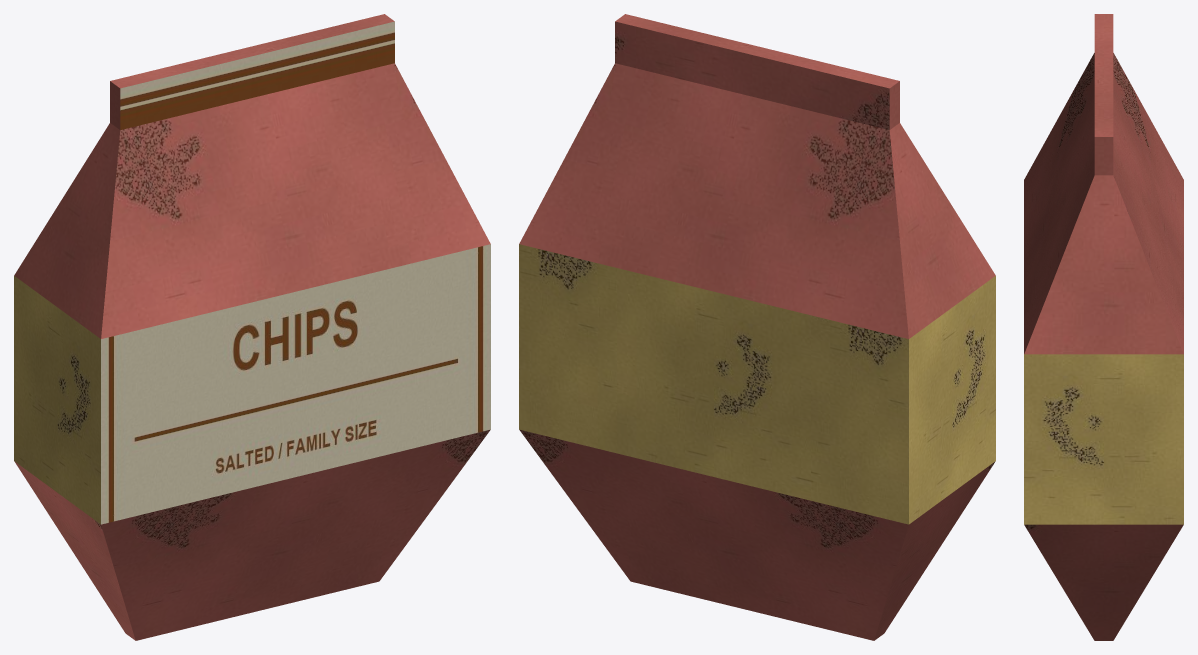
The model's file is chips.glb.
The picture shows the model from 3 angles, left to right: view 1: azimuth 30°, elevation 25°; view 2: azimuth 150°, elevation 25°; view 3: azimuth 270°, elevation 25°; orthographic projection. The views are drawn at different scales.
Visible parts, largest first — view 1: NC_chips; view 2: NC_chips; view 3: NC_chips.
Part boxes in pixels (x1=…): NC_chips: x1=14, y1=14, x2=490, y2=640; NC_chips: x1=519, y1=14, x2=995, y2=640; NC_chips: x1=1024, y1=14, x2=1183, y2=640.
Size of the model in its own units: 0.176 by 0.24 by 0.068.
3 materials, 3 textured.
